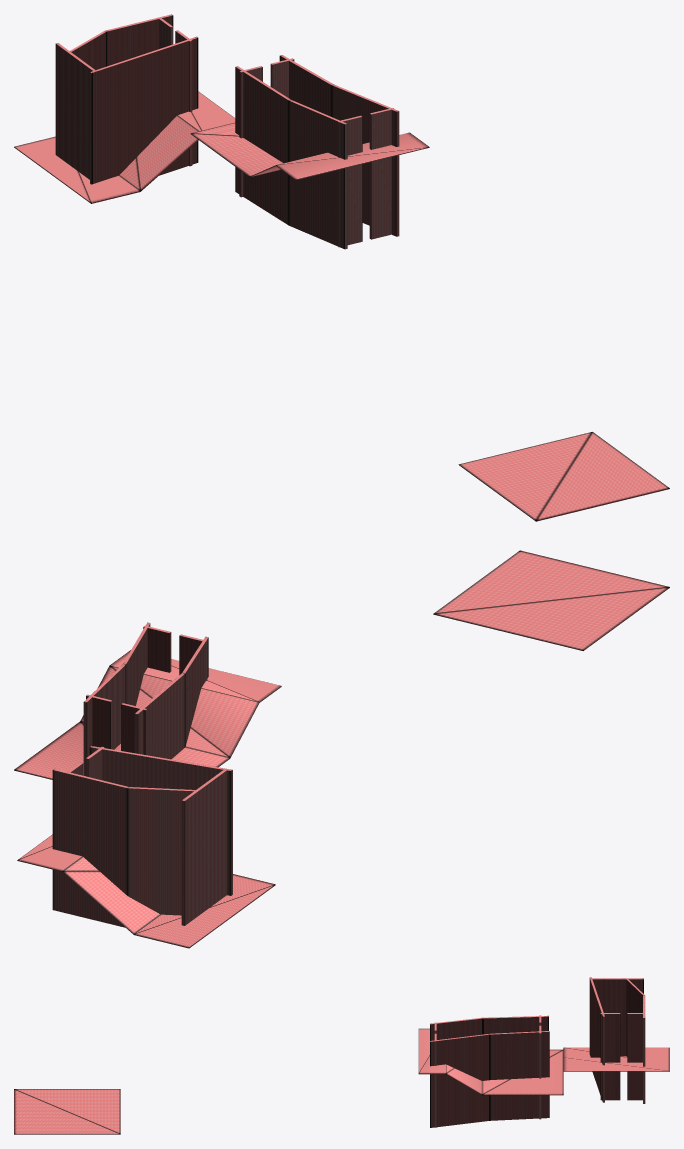
File: Killplanes.obj
3 renders of one model, top to bottom at view 1: azimuth 30°, elevation 25°; view 2: azimuth 150°, elevation 25°; view 3: azimuth 270°, elevation 25°, orthographic. The views are drawn at different scales.
Bounding box in the file's own units: 10460 × 6406 × 36909.
1 material, 1 textured.
